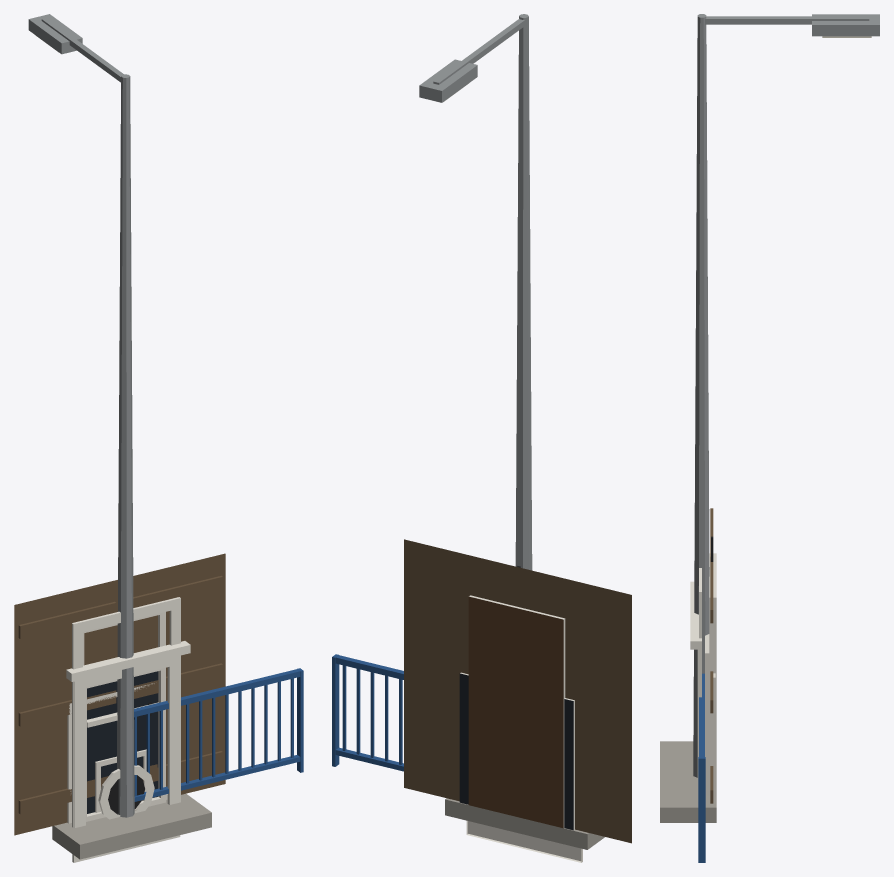
The model's file is kit.glb.
3 views of the same model, side by side, from view 1: azimuth 30°, elevation 25°; view 2: azimuth 150°, elevation 25°; view 3: azimuth 270°, elevation 25° (orthographic). The views are drawn at different scales.
Visible parts, largest first — view 1: door_barn, lamp, window_street, door_house, railing, vent, door_plank, window_plain, window_small; view 2: door_barn, door_house, lamp, railing, window_plain, window_street; view 3: lamp, door_house, window_street, railing, door_barn, window_plain.
Boxes of the visible parts, <box> form: door_barn: <box>14,553,225,835</box>; lamp: <box>28,14,134,817</box>; window_street: <box>66,641,190,862</box>; door_house: <box>52,597,211,859</box>; railing: <box>134,668,303,801</box>; vent: <box>98,765,154,819</box>; door_plank: <box>84,622,157,791</box>; window_plain: <box>67,683,167,823</box>; window_small: <box>95,749,146,822</box>; door_barn: <box>404,539,631,843</box>; door_house: <box>445,595,604,849</box>; lamp: <box>419,14,532,570</box>; railing: <box>332,654,403,771</box>; window_plain: <box>459,672,574,830</box>; window_street: <box>466,820,582,862</box>; lamp: <box>693,14,879,777</box>; door_house: <box>660,553,716,822</box>; window_street: <box>690,581,709,800</box>; railing: <box>698,673,705,862</box>; door_barn: <box>710,508,713,803</box>; window_plain: <box>710,673,715,800</box>.
Bounding box in the file's own units: 3.2 × 8.38 × 2.1.
